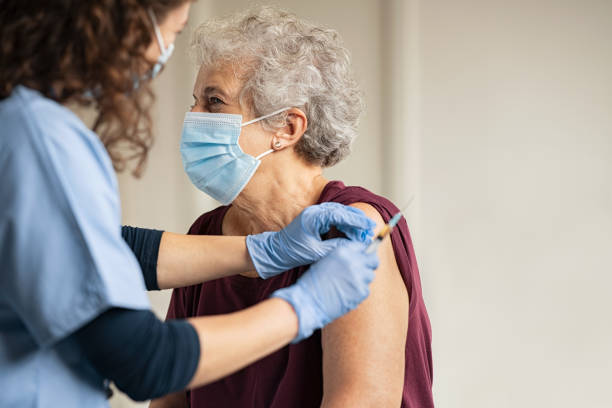with mask: (169, 47, 286, 206), (81, 1, 192, 108)
